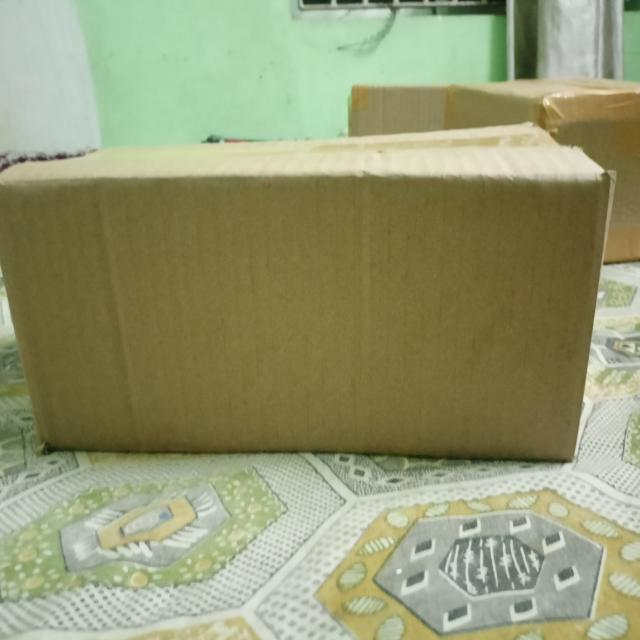box: (3, 178, 611, 460)
